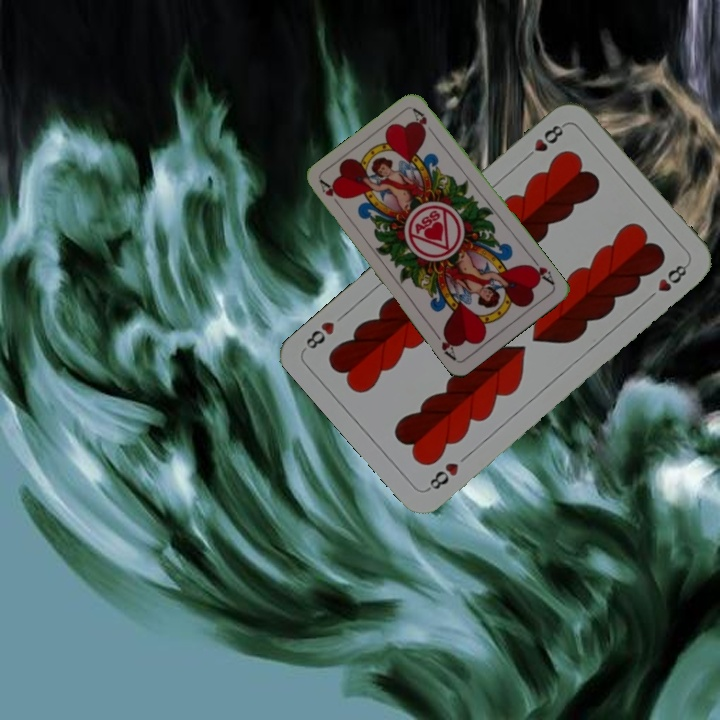H8: (520, 119, 568, 163), (423, 458, 462, 494)
HA: (524, 253, 557, 288), (316, 177, 346, 212)
